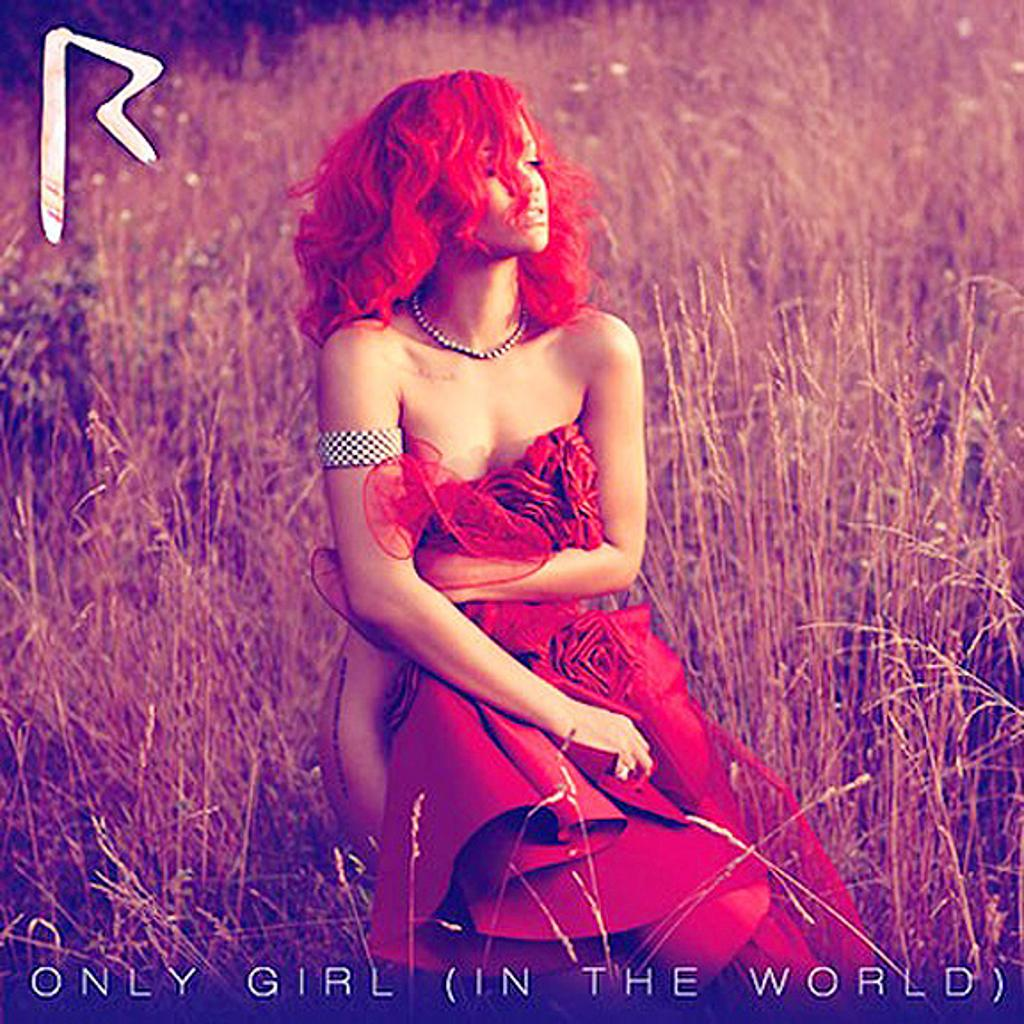face: (438, 90, 552, 252)
